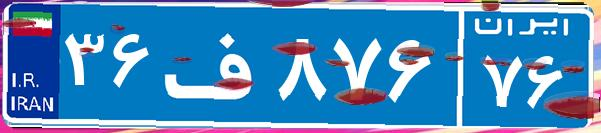3: (57, 26, 110, 107)
6: (385, 28, 445, 110), (110, 28, 158, 105), (525, 38, 570, 115)
7: (330, 28, 385, 110), (475, 38, 525, 113)
8: (273, 28, 330, 110)
ف: (158, 15, 273, 115)
